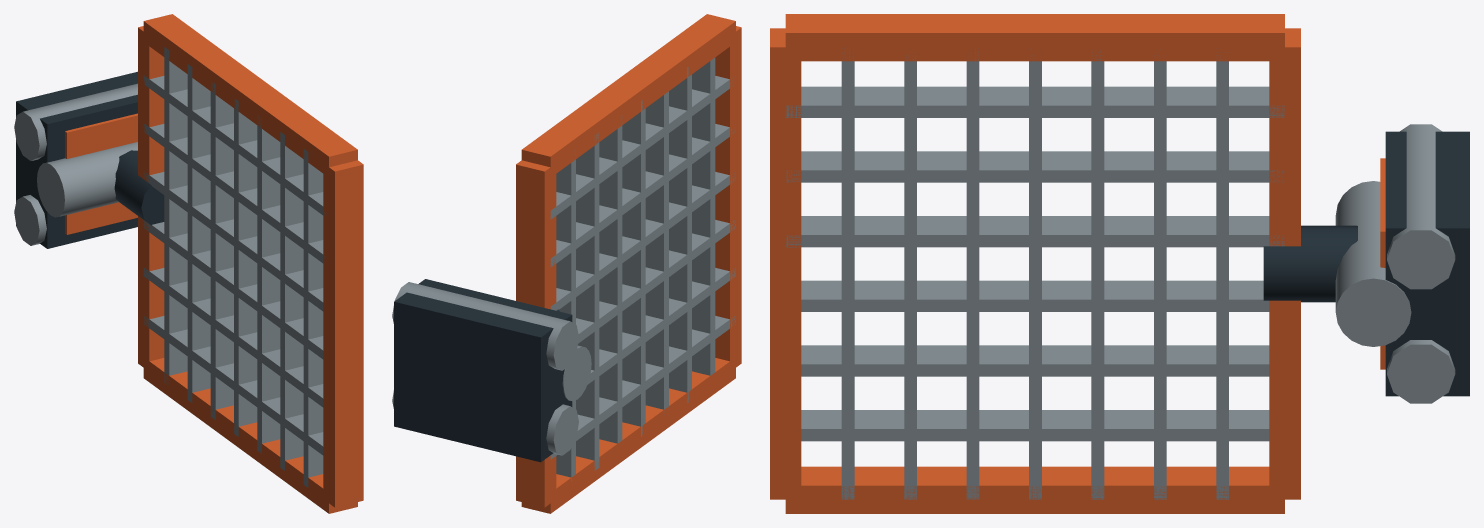
Rendered from rr_49_reshetka.glb.
The picture shows the model from 3 angles, left to right: view 1: azimuth 30°, elevation 25°; view 2: azimuth 150°, elevation 25°; view 3: azimuth 270°, elevation 25°; orthographic projection. The views are drawn at different scales.
Visible parts, largest first — view 1: rr_49_reshetka.deployment.deflection.mesh_JUGRE_·_bead-blast, rr_49_reshetka.deployment.deflection.mesh_JUGRE_·_oxide_oran, rr_49_reshetka.mesh_JUGRE_·_graphite_composite, rr_49_reshetka.deployment.mesh_JUGRE_·_bead-blasted_titanium, rr_49_reshetka.mesh_JUGRE_·_bead-blasted_titanium, rr_49_reshetka.mesh_JUGRE_·_oxide_orange, rr_49_reshetka.deployment.mesh_JUGRE_·_graphite_composite; view 2: rr_49_reshetka.deployment.deflection.mesh_JUGRE_·_bead-blast, rr_49_reshetka.deployment.deflection.mesh_JUGRE_·_oxide_oran, rr_49_reshetka.mesh_JUGRE_·_graphite_composite, rr_49_reshetka.mesh_JUGRE_·_bead-blasted_titanium, rr_49_reshetka.deployment.mesh_JUGRE_·_bead-blasted_titanium; view 3: rr_49_reshetka.deployment.deflection.mesh_JUGRE_·_bead-blast, rr_49_reshetka.deployment.deflection.mesh_JUGRE_·_oxide_oran, rr_49_reshetka.mesh_JUGRE_·_graphite_composite, rr_49_reshetka.mesh_JUGRE_·_bead-blasted_titanium, rr_49_reshetka.deployment.mesh_JUGRE_·_bead-blasted_titanium, rr_49_reshetka.deployment.mesh_JUGRE_·_graphite_composite, rr_49_reshetka.mesh_JUGRE_·_oxide_orange.
Boxes of the visible parts, x1,y1,x2,y2 form: rr_49_reshetka.deployment.deflection.mesh_JUGRE_·_bead-blast: (143,47,325,487); rr_49_reshetka.deployment.deflection.mesh_JUGRE_·_oxide_oran: (138,14,363,513); rr_49_reshetka.mesh_JUGRE_·_graphite_composite: (16,71,137,248); rr_49_reshetka.deployment.mesh_JUGRE_·_bead-blasted_titanium: (37,142,137,217); rr_49_reshetka.mesh_JUGRE_·_bead-blasted_titanium: (14,83,137,245); rr_49_reshetka.mesh_JUGRE_·_oxide_orange: (65,113,137,234); rr_49_reshetka.deployment.mesh_JUGRE_·_graphite_composite: (114,150,164,225); rr_49_reshetka.deployment.deflection.mesh_JUGRE_·_bead-blast: (550,57,735,480); rr_49_reshetka.deployment.deflection.mesh_JUGRE_·_oxide_oran: (516,14,741,513); rr_49_reshetka.mesh_JUGRE_·_graphite_composite: (394,279,572,462); rr_49_reshetka.mesh_JUGRE_·_bead-blasted_titanium: (392,282,578,455); rr_49_reshetka.deployment.mesh_JUGRE_·_bead-blasted_titanium: (562,345,591,401); rr_49_reshetka.deployment.deflection.mesh_JUGRE_·_bead-blast: (785,48,1284,499); rr_49_reshetka.deployment.deflection.mesh_JUGRE_·_oxide_oran: (770,14,1300,513); rr_49_reshetka.mesh_JUGRE_·_graphite_composite: (1385,131,1469,396); rr_49_reshetka.mesh_JUGRE_·_bead-blasted_titanium: (1387,124,1455,403); rr_49_reshetka.deployment.mesh_JUGRE_·_bead-blasted_titanium: (1335,181,1411,346); rr_49_reshetka.deployment.mesh_JUGRE_·_graphite_composite: (1263,225,1357,302); rr_49_reshetka.mesh_JUGRE_·_oxide_orange: (1380,158,1385,369).
Bounding box in the file's own units: 0.352 × 0.744 × 0.981.
